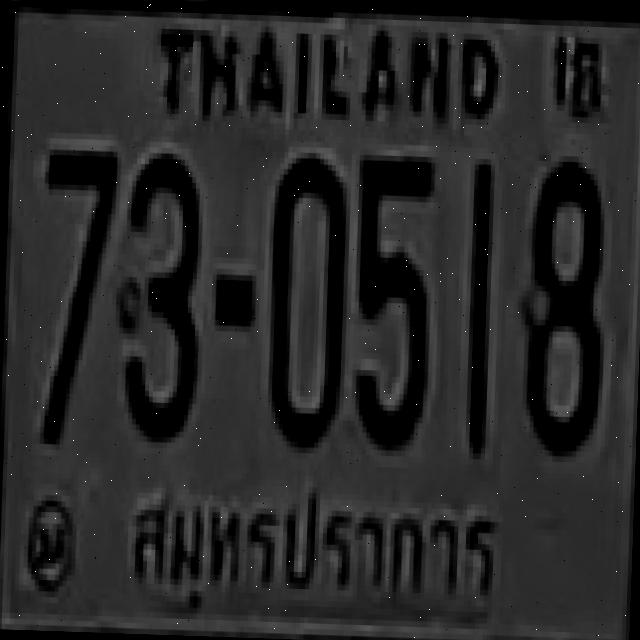0: (262, 154, 348, 445)
1: (461, 161, 491, 439)
3: (109, 146, 203, 438)
5: (348, 148, 433, 446)
7: (34, 143, 116, 440)
8: (514, 154, 604, 452)
SamutPrakan: (120, 469, 507, 623)
